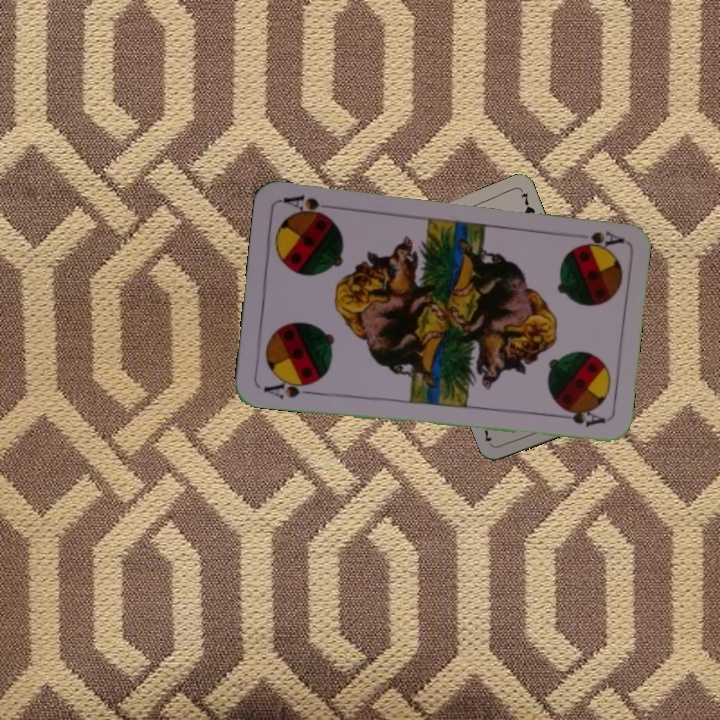SA: (259, 374, 318, 402), (577, 226, 625, 250)
